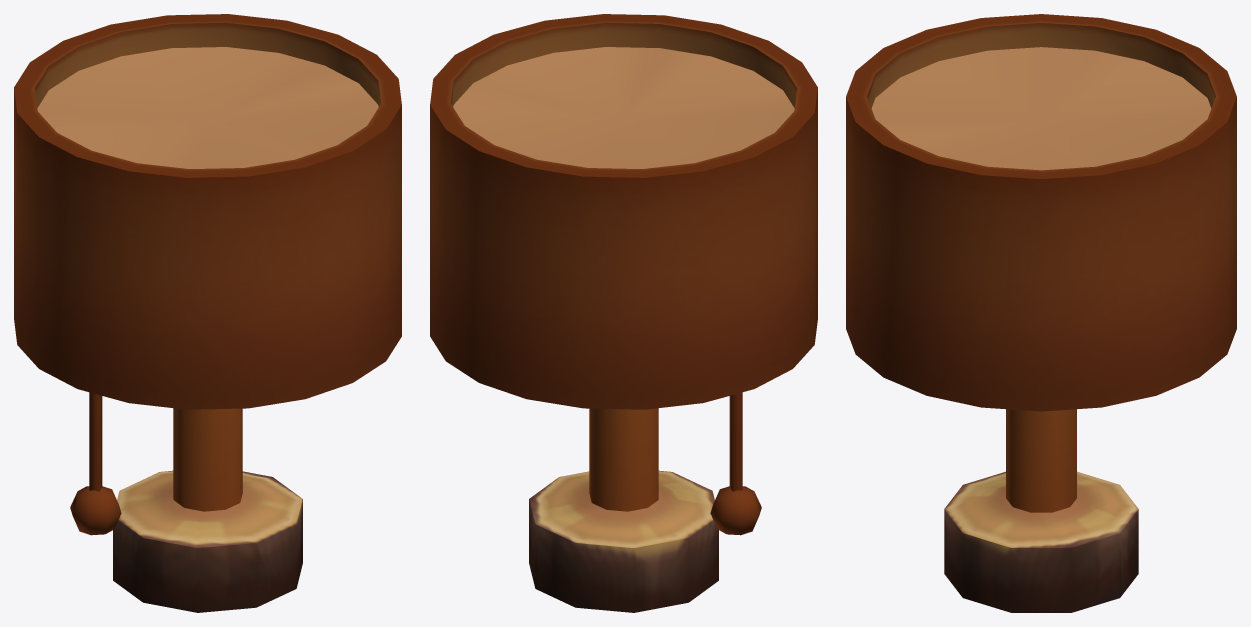
The model's file is MidcenturyLamp_HD.fbx.
The picture shows the model from 3 angles, left to right: view 1: azimuth 30°, elevation 25°; view 2: azimuth 150°, elevation 25°; view 3: azimuth 270°, elevation 25°; orthographic projection.
Visible parts, largest first — view 1: MidcenturyLamp; view 2: MidcenturyLamp; view 3: MidcenturyLamp.
Part boxes in pixels (box(x1,y1,x2,y2)): MidcenturyLamp: box(14, 14, 401, 612); MidcenturyLamp: box(430, 14, 817, 612); MidcenturyLamp: box(846, 14, 1236, 612).
Bounding box in the file's own units: 0.4677 × 0.6301 × 0.4677.
